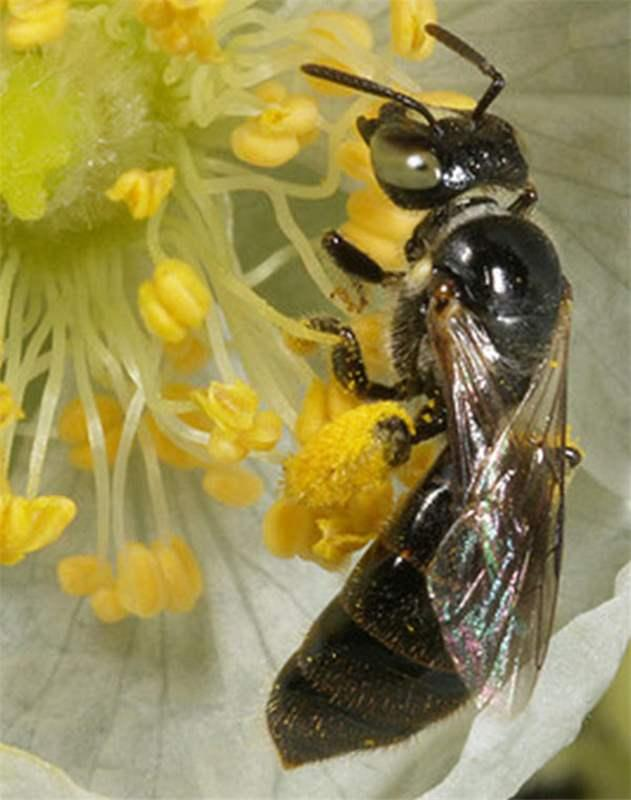Lasioglossum: (242, 13, 596, 773)
